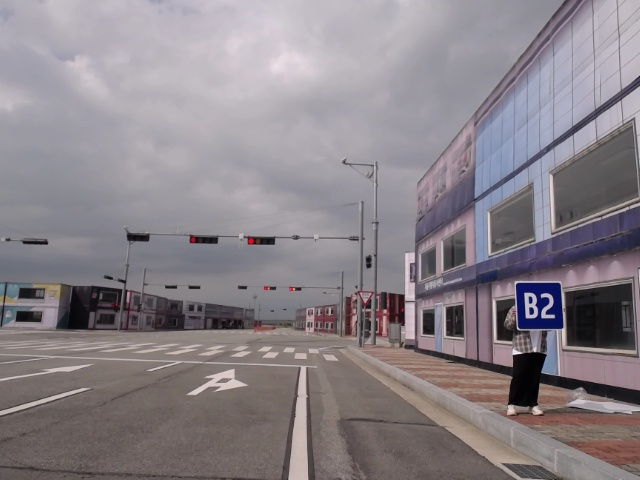delivery_b2: (513, 280, 568, 329)
